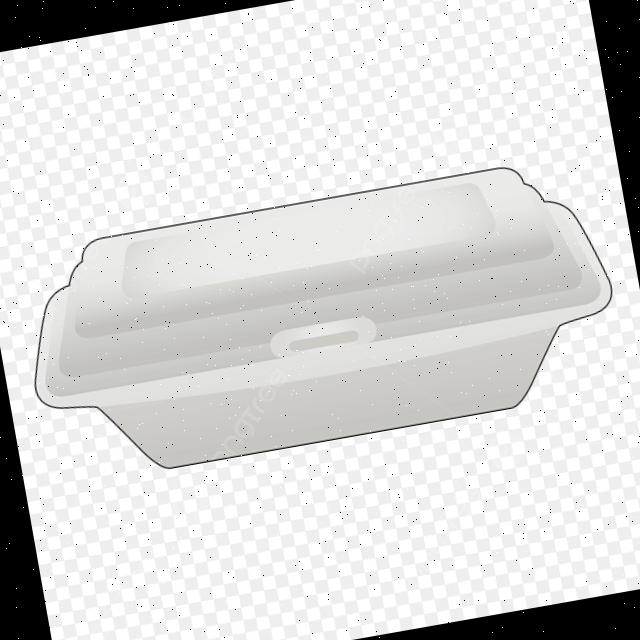styrofoam: (10, 149, 629, 490)
